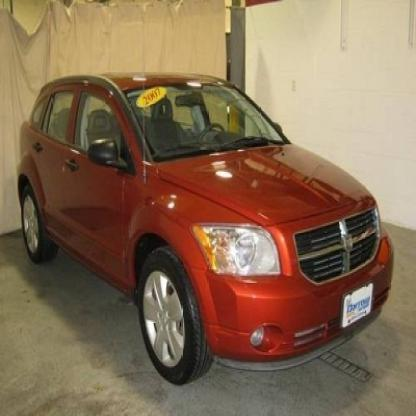Vehicle: (17, 72, 395, 388)
